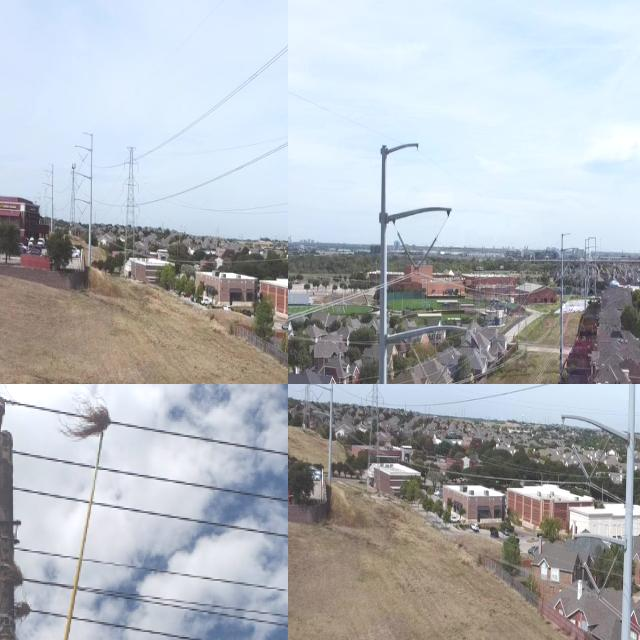杆塔: (116, 137, 145, 276), (364, 384, 392, 487), (66, 156, 84, 233)
植被遮挡: (56, 388, 117, 446)
正常绝缘子: (410, 230, 443, 280), (392, 222, 422, 276), (407, 338, 434, 384), (429, 346, 459, 384), (585, 441, 610, 485), (596, 555, 618, 602), (569, 441, 593, 483), (582, 559, 604, 601)
